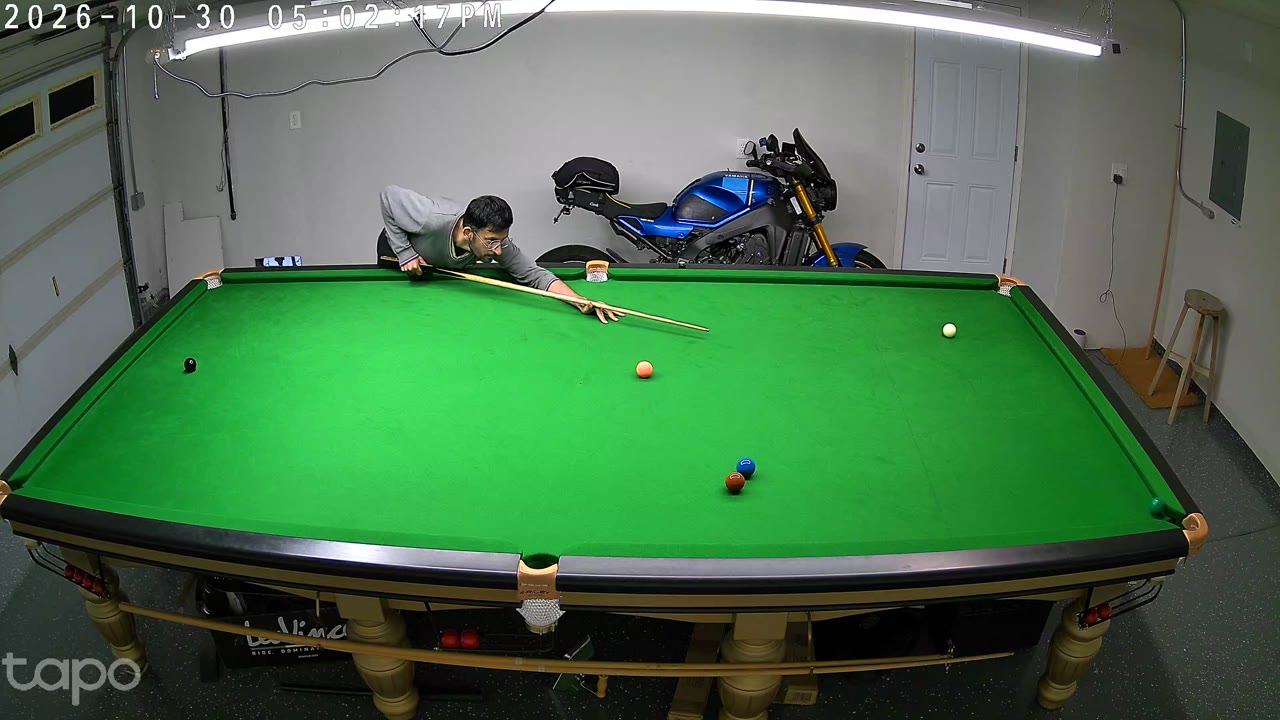black: (184, 356, 196, 376)
blue: (737, 458, 756, 479)
brown: (725, 471, 742, 496)
green: (1149, 495, 1164, 518)
pink: (636, 360, 652, 381)
white: (943, 322, 956, 340)
